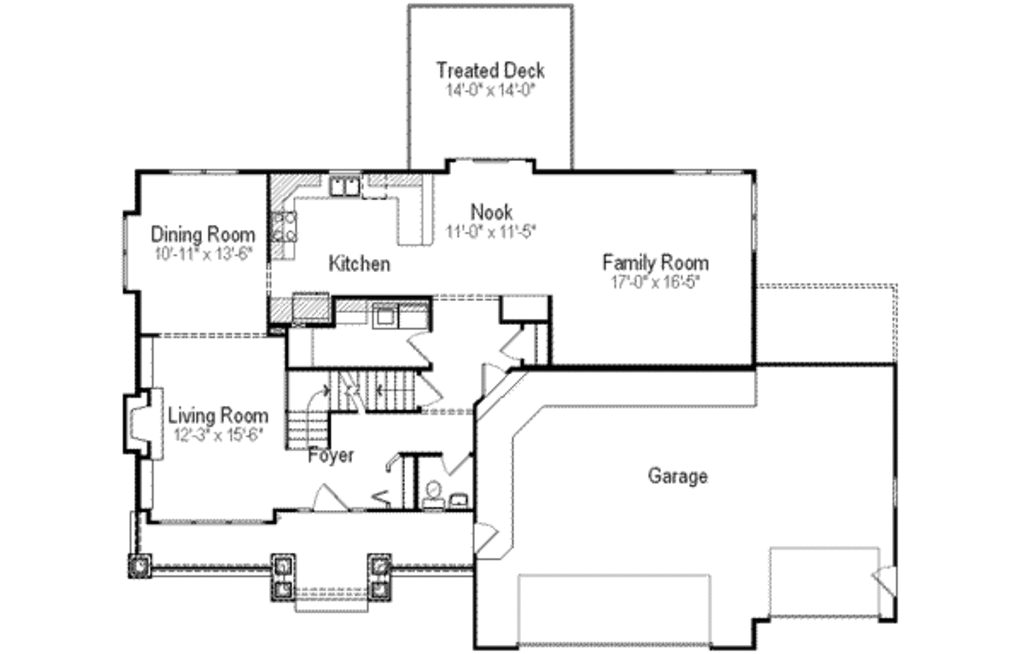door: (301, 474, 358, 512), (488, 319, 531, 364), (409, 367, 450, 410), (468, 516, 503, 560), (474, 358, 513, 397), (403, 328, 439, 368), (431, 444, 474, 477), (867, 555, 900, 596)
large_sink: (418, 473, 445, 511)
small_sink: (442, 486, 475, 514)
stairs: (292, 372, 407, 453)
twin_sink: (318, 168, 378, 206)
window: (742, 180, 768, 249), (164, 163, 251, 181), (118, 215, 137, 288), (657, 164, 741, 179)
